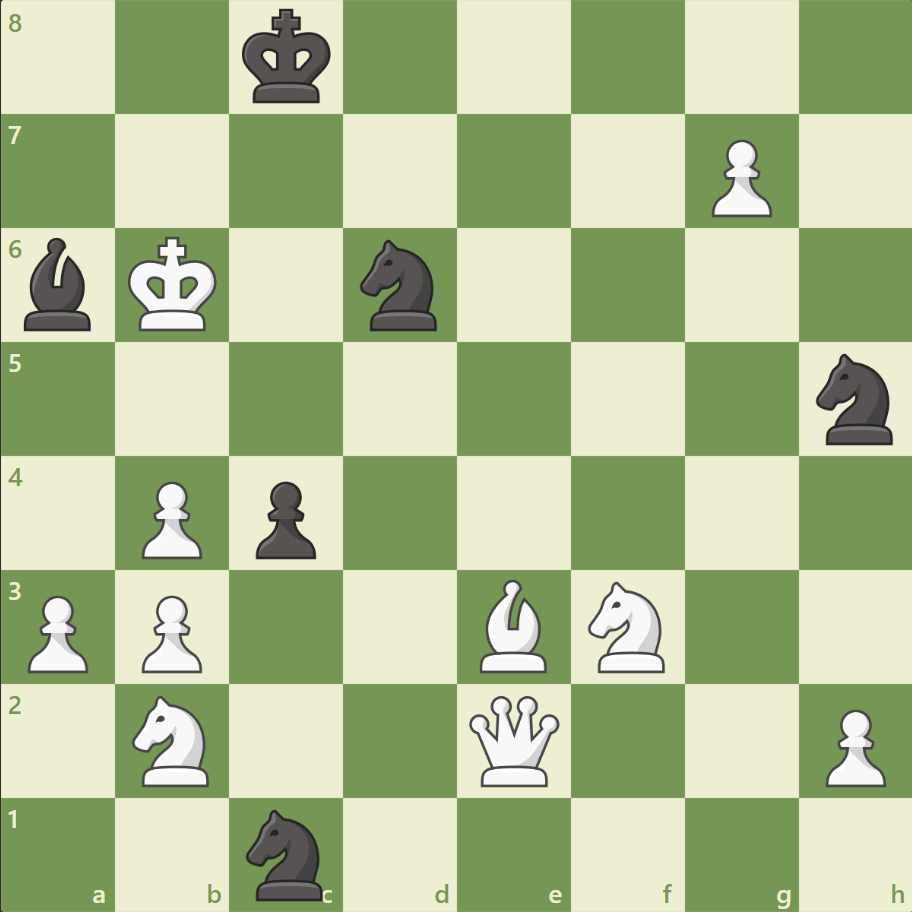B: (471, 574, 555, 676)
K: (124, 231, 224, 339)
N: (124, 688, 222, 791), (579, 575, 676, 677)
P: (701, 132, 776, 223), (133, 473, 208, 564), (20, 586, 95, 677), (133, 586, 208, 677), (815, 700, 889, 791)
Q: (464, 690, 563, 789)
b: (17, 233, 101, 336)
k: (238, 4, 338, 112)
n: (351, 234, 449, 337), (806, 348, 903, 450), (238, 802, 335, 904)
p: (247, 473, 322, 564)
